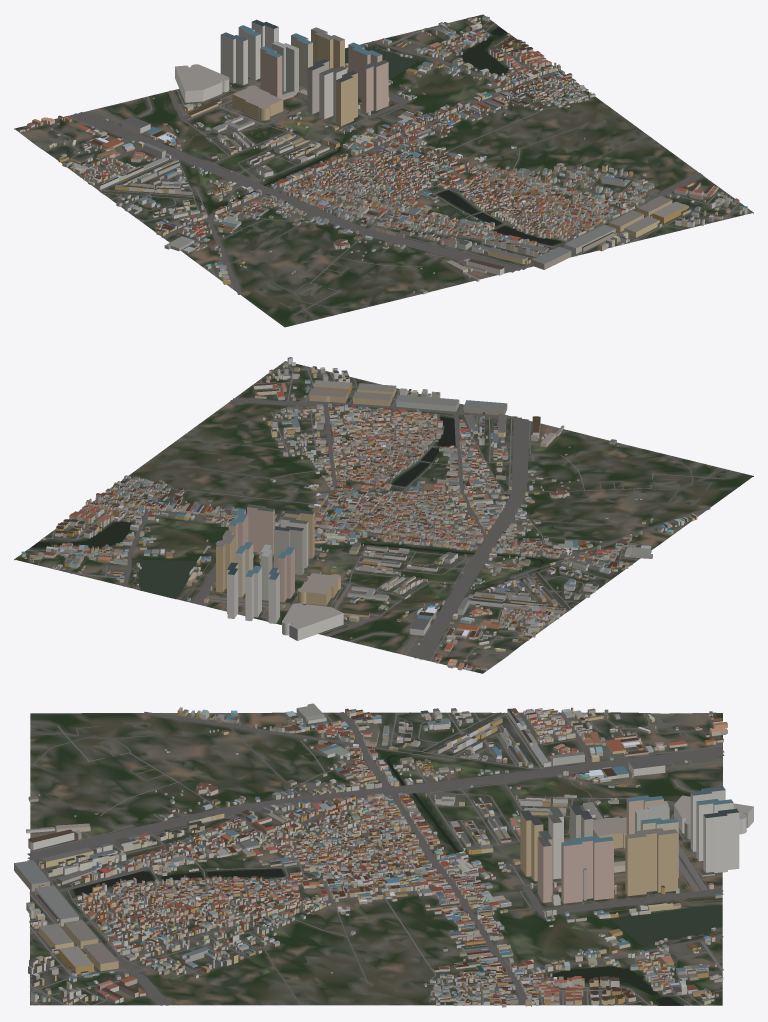
3 views of the same model, one above another, from view 1: azimuth 30°, elevation 25°; view 2: azimuth 150°, elevation 25°; view 3: azimuth 270°, elevation 25° (orthographic). The views are drawn at different scales.
Parts seen in each view (by area): view 1: buildings, ground, roads, water; view 2: ground, buildings, roads, water; view 3: ground, buildings, roads, water.
Part boxes in pixels (x1,y1,x2,y2): buildings: [18, 16, 747, 294]; ground: [14, 14, 753, 327]; roads: [23, 20, 753, 318]; water: [100, 26, 561, 245]; ground: [14, 361, 753, 673]; buildings: [21, 357, 697, 670]; roads: [26, 361, 722, 671]; water: [31, 417, 570, 610]; ground: [30, 712, 722, 1005]; buildings: [14, 703, 753, 1007]; roads: [27, 712, 724, 1005]; water: [73, 712, 722, 1005].
Size of the model in its own units: 1437 by 133 by 1498.
